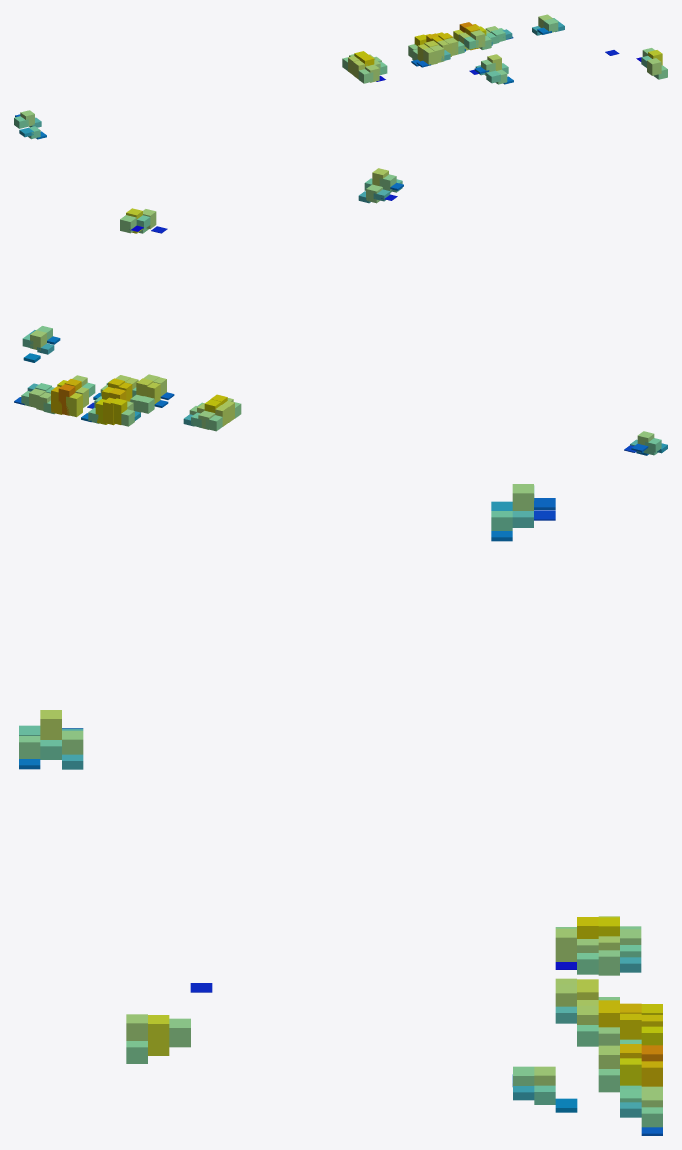
The model's file is population.glb.
3 renders of one model, top to bottom at view 1: azimuth 30°, elevation 25°; view 2: azimuth 150°, elevation 25°; view 3: azimuth 270°, elevation 25°, orthographic. The views are drawn at different scales.
Parts seen in each view (by area): view 1: population; view 2: population; view 3: population.
Boxes of the visible parts, <box> form: population: <box>14,14,667,139</box>; population: <box>14,168,667,455</box>; population: <box>19,484,662,1135</box>.
Bounding box in the file's own units: 5930 × 1346 × 2997.
